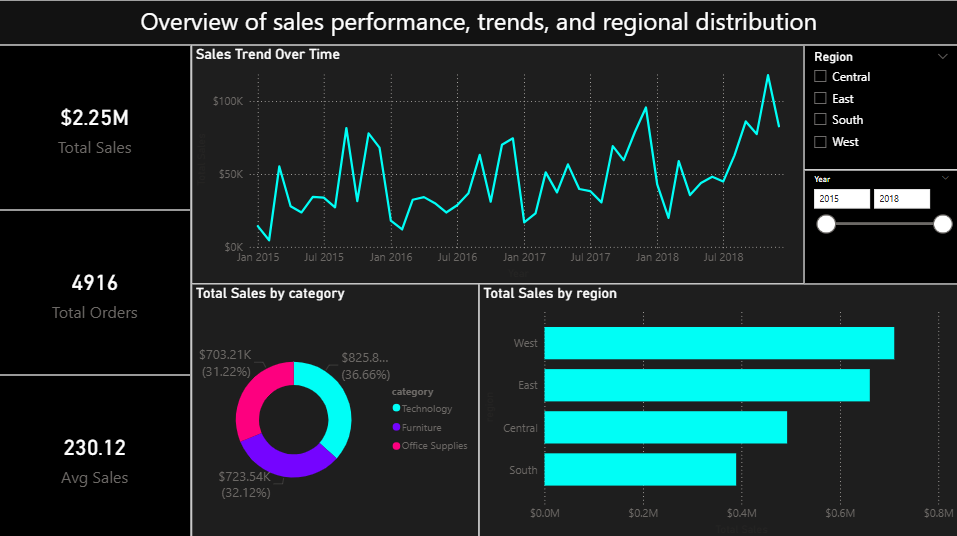

This screenshot's page, from the dashboard's own definition file:
{"tool":"powerbi","page":{"name":"Overview","canvas":[1280,720],"ordinal":0},"visuals":[{"type":"card","fields":{"Values":["cleaned_sales.Total Sales"]},"box":[0,60,255.7,220],"z":0},{"type":"card","fields":{"Values":["cleaned_sales.Total Orders"]},"box":[0,280,256,220],"z":1000},{"type":"card","fields":{"Values":["cleaned_sales.Avg Sales"]},"box":[0,500,256,220],"z":2000},{"type":"lineChart","title":"Sales Trend Over Time","fields":{"Y":["cleaned_sales.Total Sales"],"Category":["cleaned_sales.order_date.Variation.Date Hierarchy.Year","cleaned_sales.order_date.Variation.Date Hierarchy.Month"]},"box":[256.7,60,816.7,318.3],"z":3000},{"type":"clusteredBarChart","fields":{"Category":["cleaned_sales.region"],"Y":["cleaned_sales.Total Sales"]},"box":[640,378.3,640,341.7],"z":4000},{"type":"textbox","box":[0,0,1280,60],"z":5000},{"type":"slicer","fields":{"Values":["cleaned_sales.year"]},"box":[1073.3,226.7,206.7,151.7],"z":6000},{"type":"slicer","fields":{"Values":["cleaned_sales.region"]},"box":[1074,60,206,166],"z":7000},{"type":"donutChart","fields":{"Category":["cleaned_sales.category"],"Y":["cleaned_sales.Total Sales"]},"box":[256.7,378.3,383.3,341.7],"z":8000}]}

Visuals, with their boxes in screenshot pixels (x1, y1, x2, y2), scaled from the page's 1280x720 canvas onto the 957x536 screenshot:
card - cleaned_sales.Total Sales: (0, 45, 191, 208)
card - cleaned_sales.Total Orders: (0, 208, 191, 372)
card - cleaned_sales.Avg Sales: (0, 372, 191, 535)
"Sales Trend Over Time" lineChart: (192, 45, 803, 282)
clusteredBarChart - cleaned_sales.region x cleaned_sales.Total Sales: (478, 282, 956, 535)
textbox: (0, 0, 956, 45)
slicer - cleaned_sales.year: (802, 169, 956, 282)
slicer - cleaned_sales.region: (803, 45, 956, 168)
donutChart - cleaned_sales.category x cleaned_sales.Total Sales: (192, 282, 478, 535)
